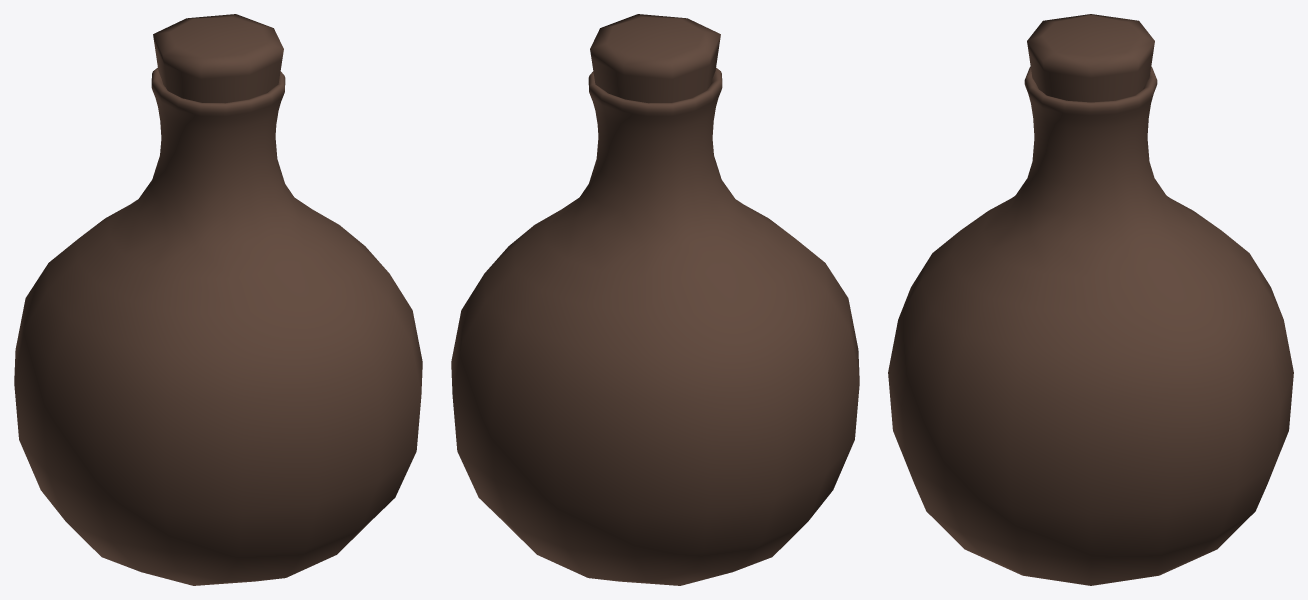
The model's file is pocion.glb.
The picture shows the model from 3 angles, left to right: view 1: azimuth 30°, elevation 25°; view 2: azimuth 150°, elevation 25°; view 3: azimuth 270°, elevation 25°; orthographic projection.
Visible parts, largest first — view 1: Potion1_Filled_Cube.082; view 2: Potion1_Filled_Cube.082; view 3: Potion1_Filled_Cube.082.
Boxes of the visible parts, x1,y1,x2,y2 form: Potion1_Filled_Cube.082: [14, 14, 422, 585]; Potion1_Filled_Cube.082: [451, 14, 859, 585]; Potion1_Filled_Cube.082: [888, 14, 1293, 585].
Size of the model in its own units: 0.6685 by 0.9629 by 0.6685.
